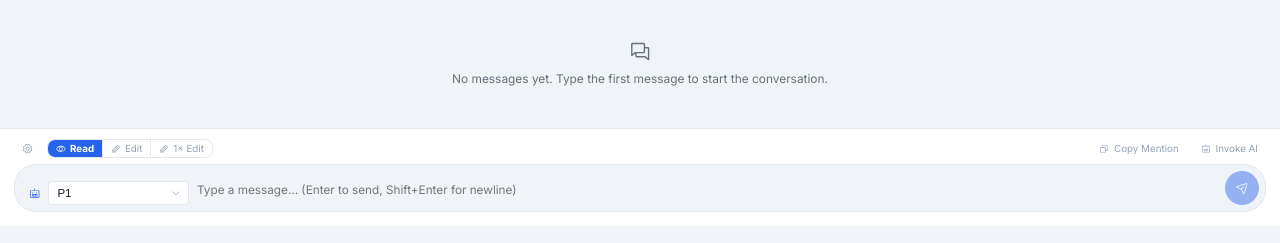
it: ConversationView chat AI invoke › still refreshes chat settings when the SSE answer lands before start resolves (race, rev4)
Click the button with class "conv-assist-btn" showing "Invoke AI". click: (1229, 149)
box: x1=1193 y1=140 x2=1266 y2=157
Wait 2500 ms
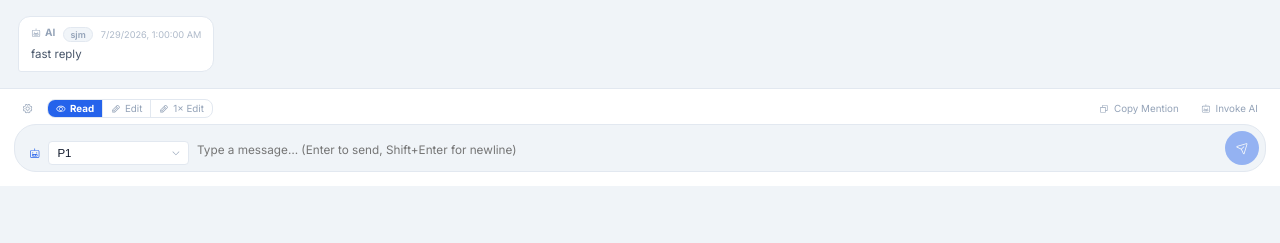
expect the text "fast reply" is shown: met, box x1=31 y1=47 x2=82 y2=61
